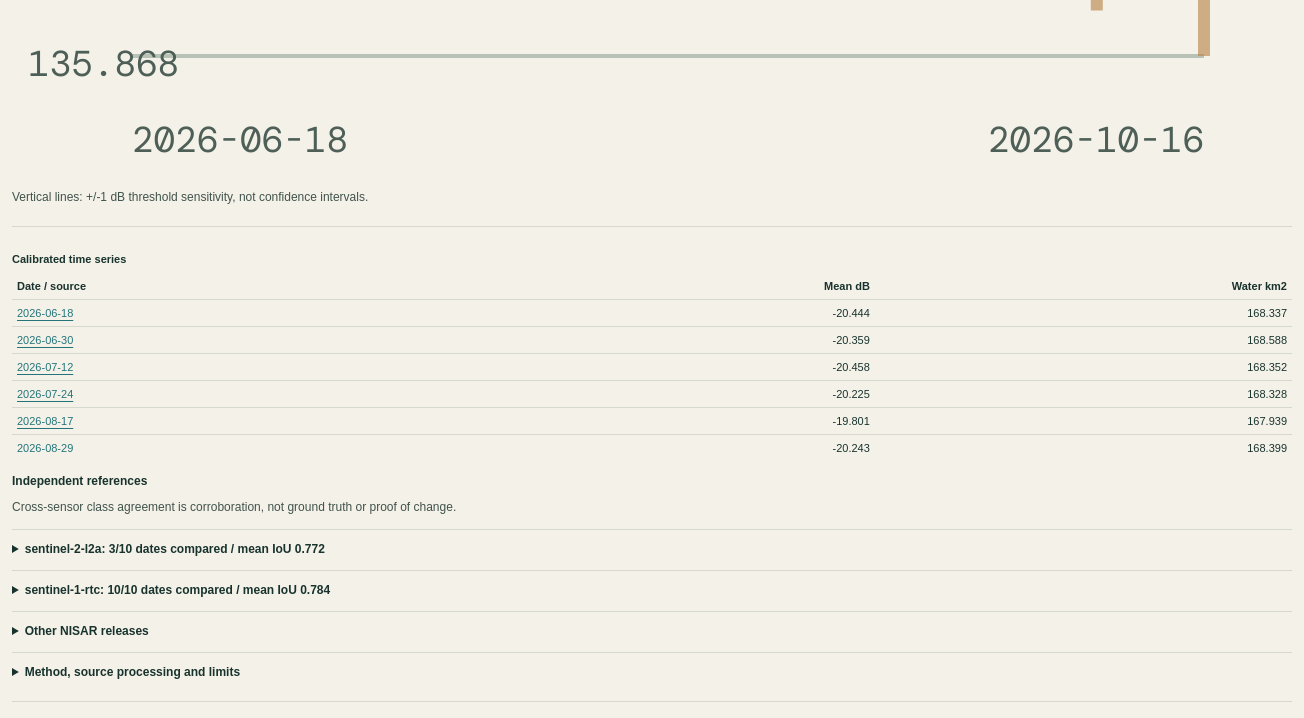
Test case: calibrated-source evidence › does not present a failed release search as zero matching coverage
(page scrolled)
Click the heading "Other NISAR releases" at [87, 631], box [25,624,149,638]
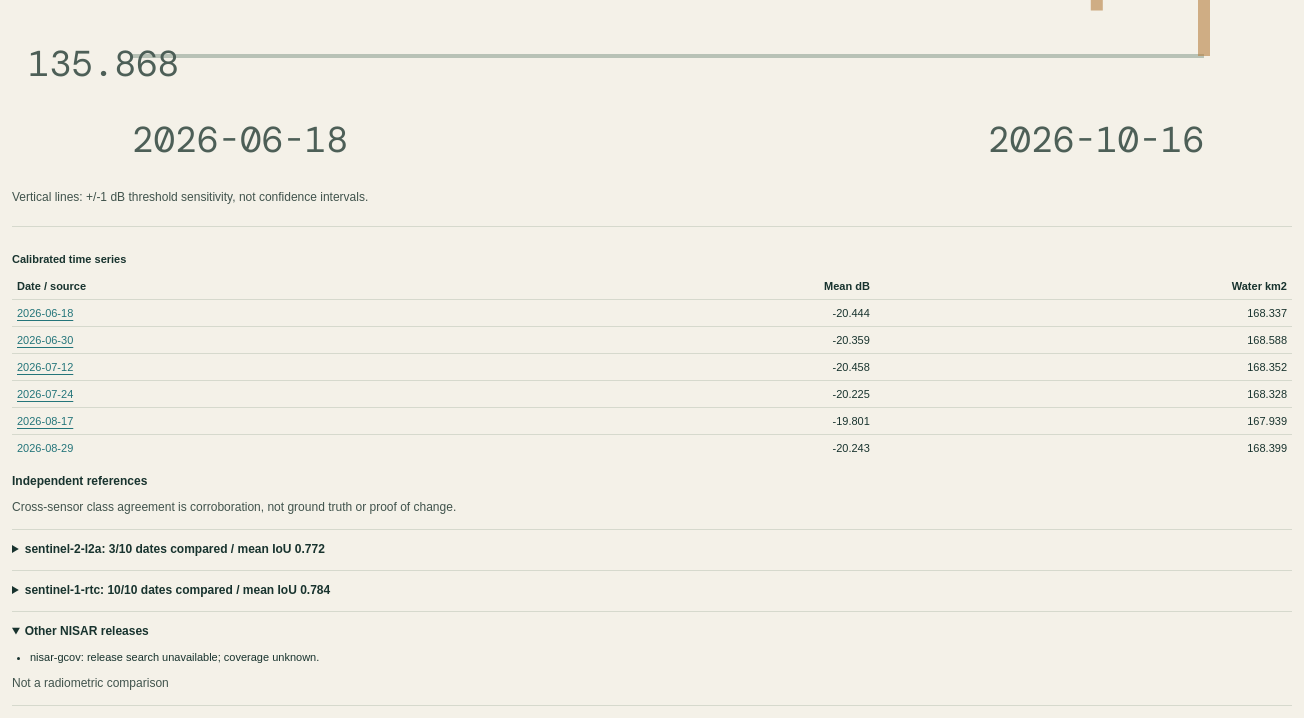
Check: the list item "nisar-gcov: release search unavailable; coverage unknown." is shown, box [30,651,319,663]
